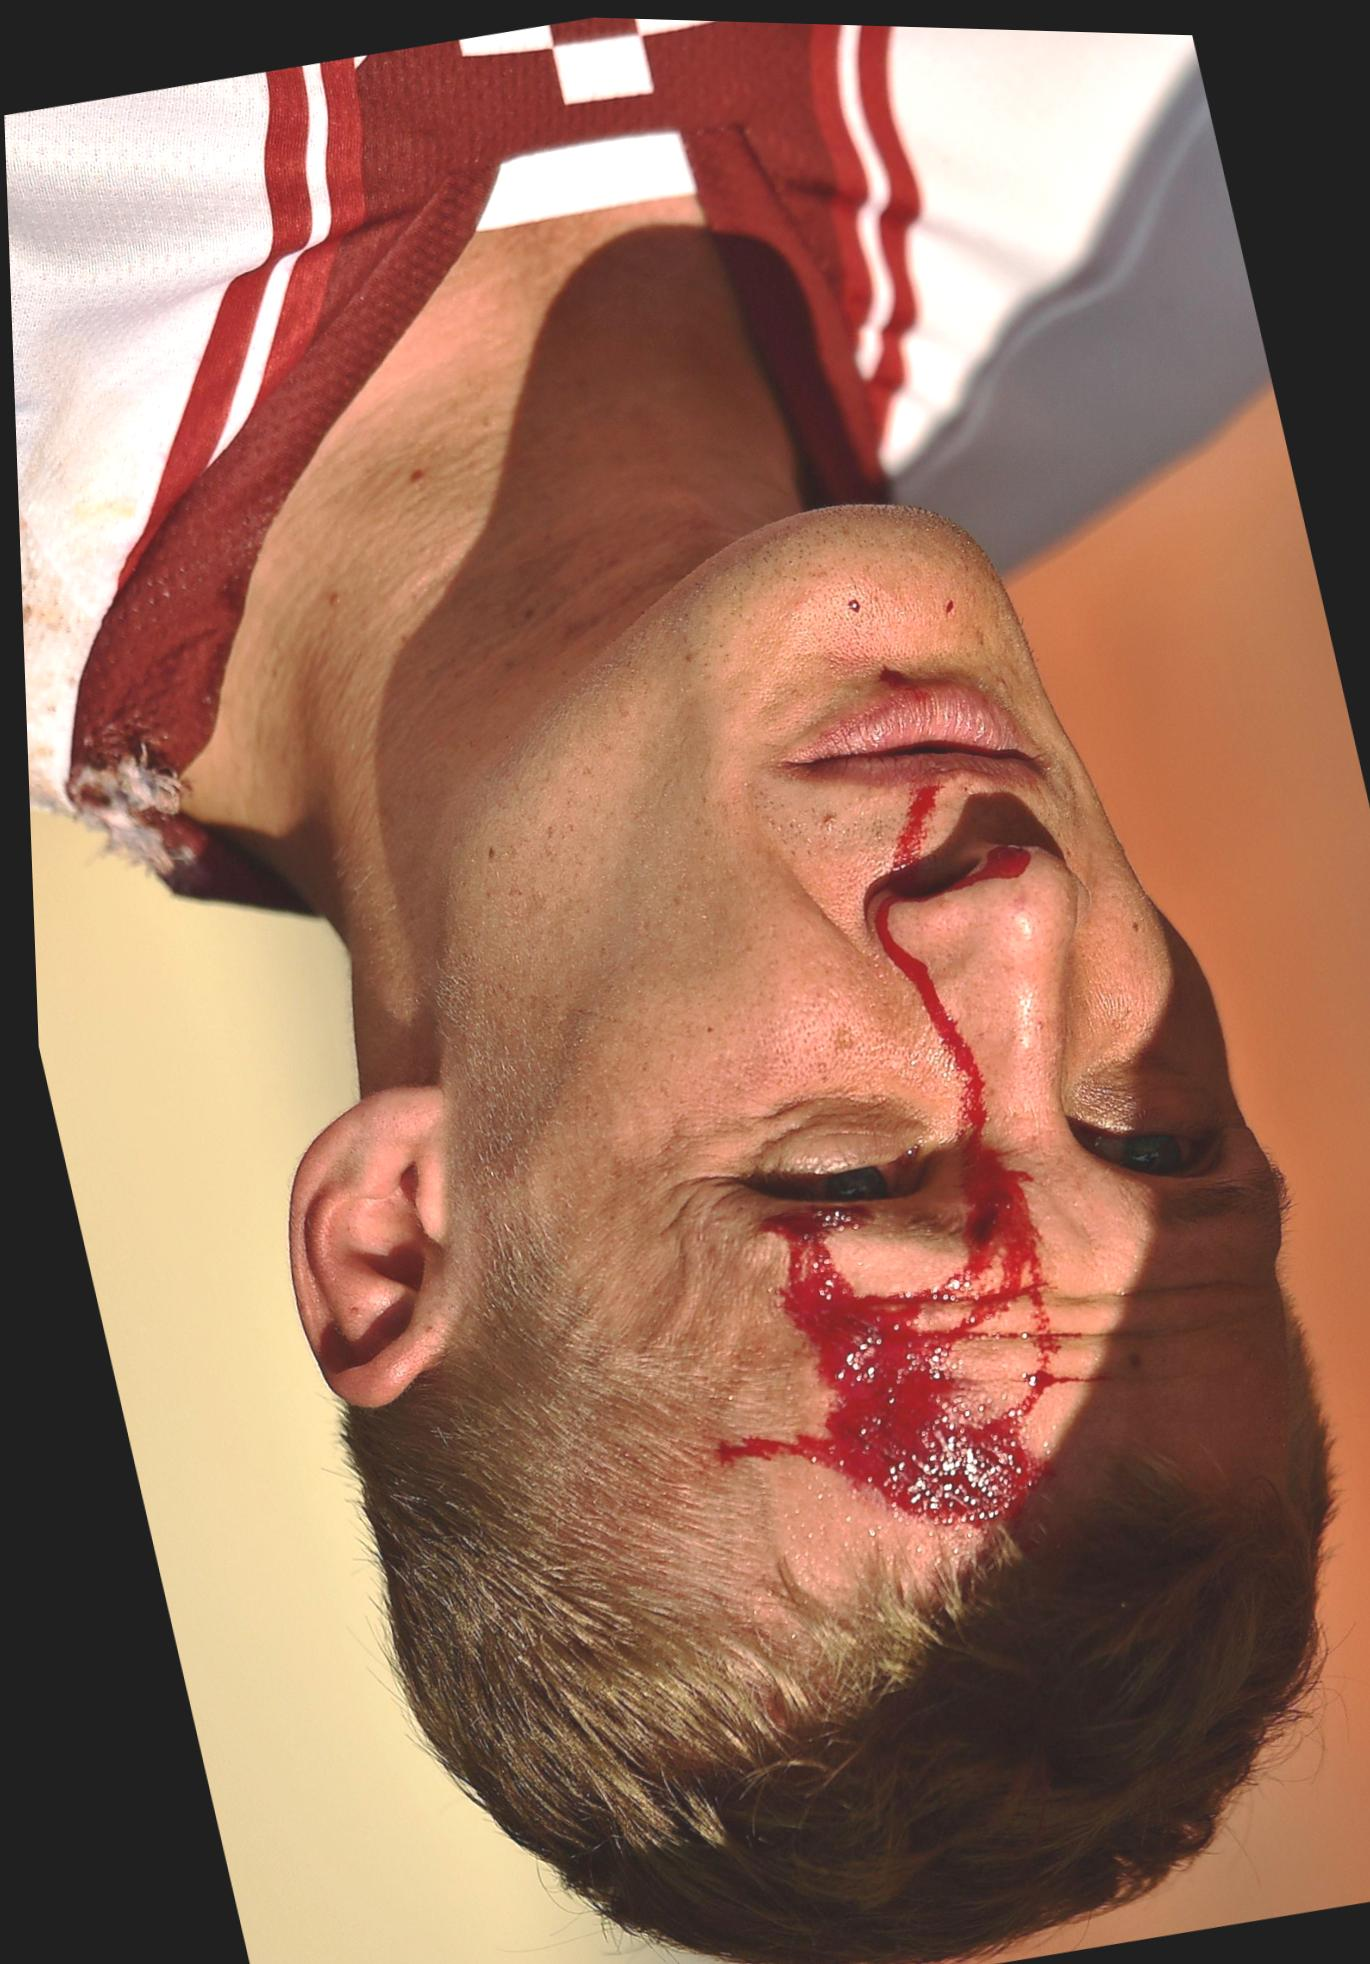Fire: (861, 884, 1073, 1418), (707, 1198, 1037, 1524), (873, 778, 937, 885), (937, 837, 1024, 885)
